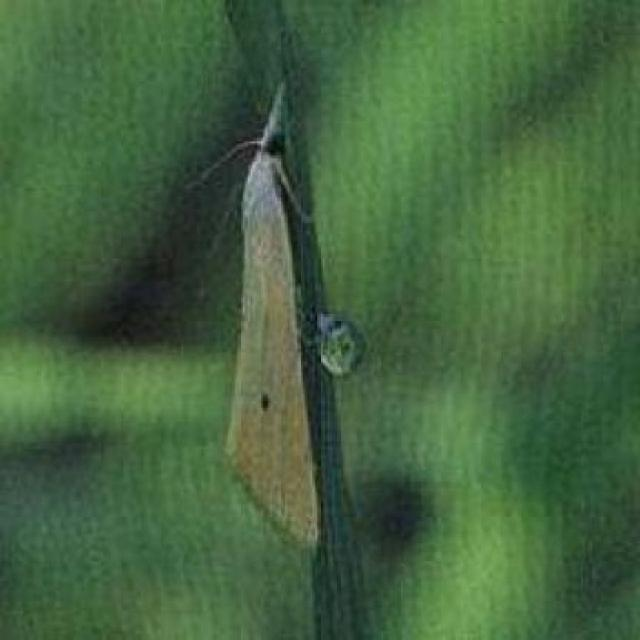stem-borer: (188, 78, 320, 559)
